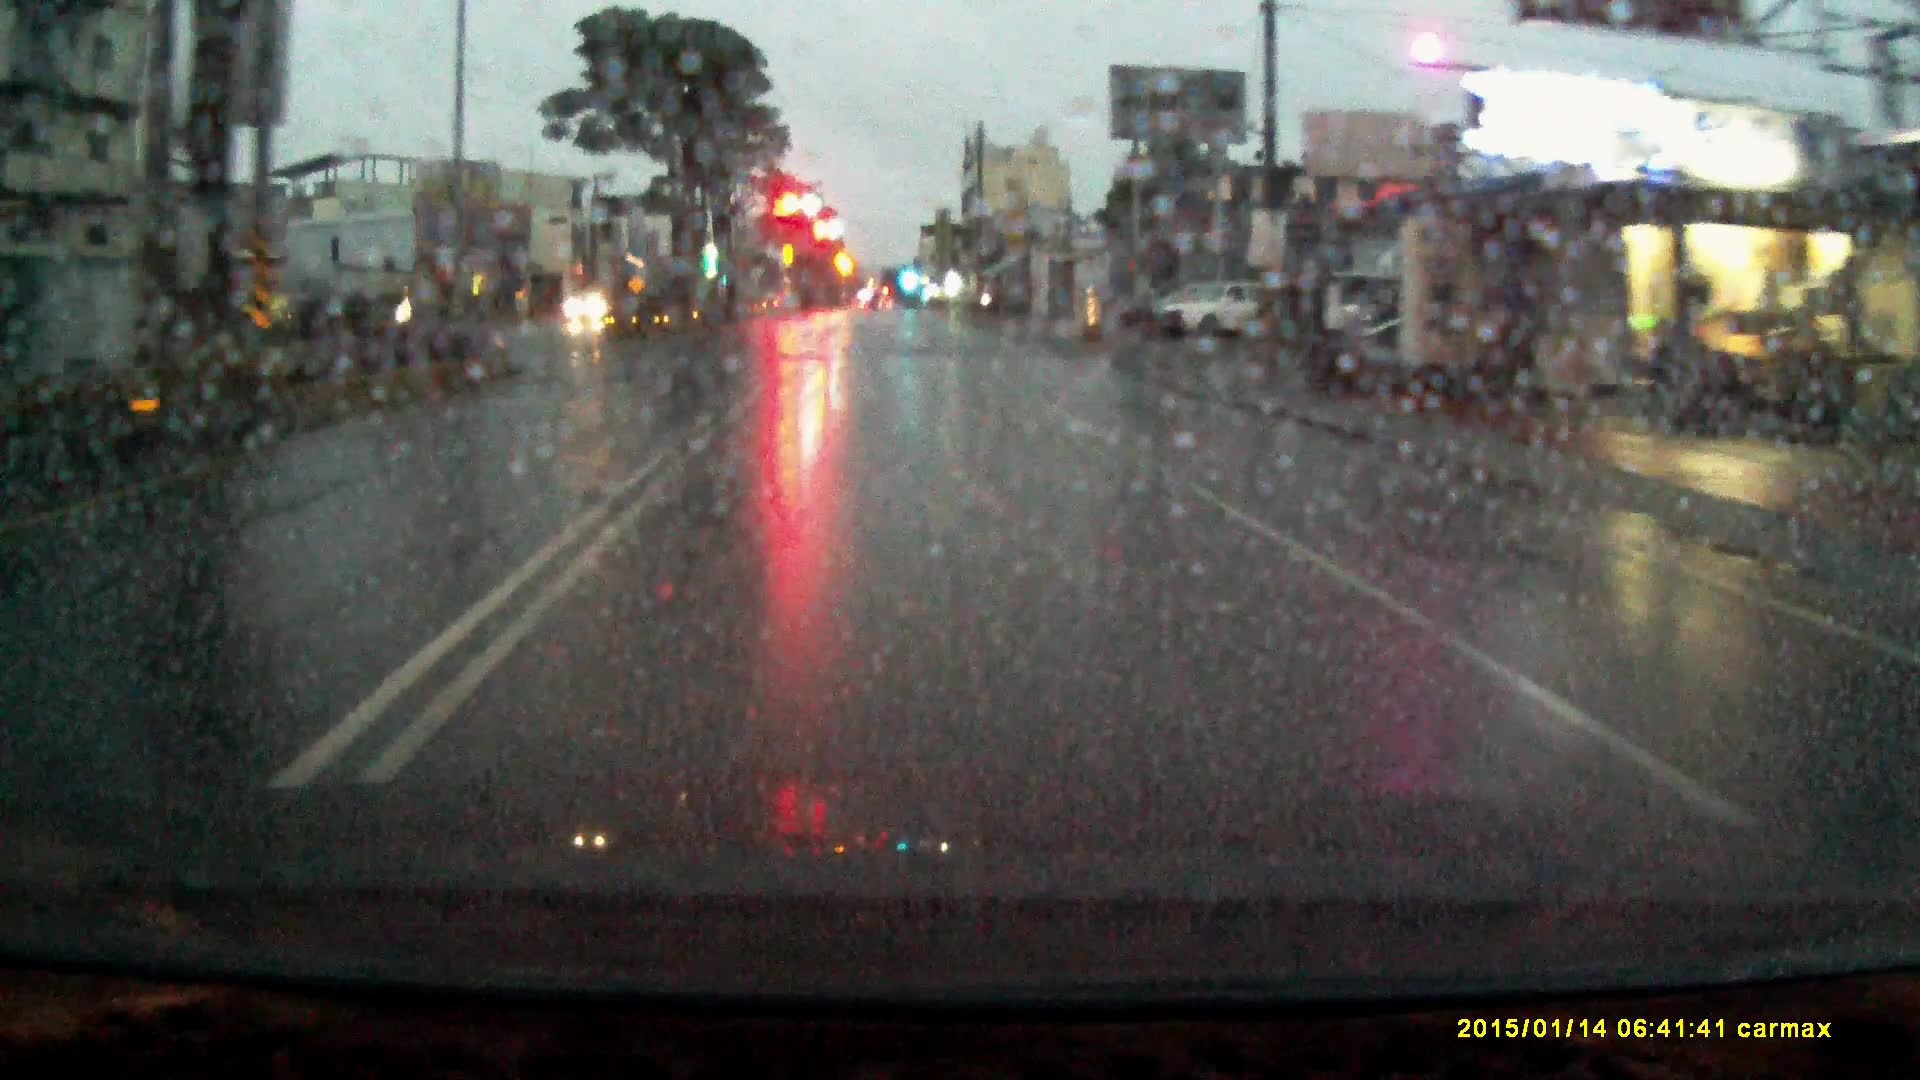vehicle: (1158, 284, 1292, 345), (567, 294, 617, 330)
